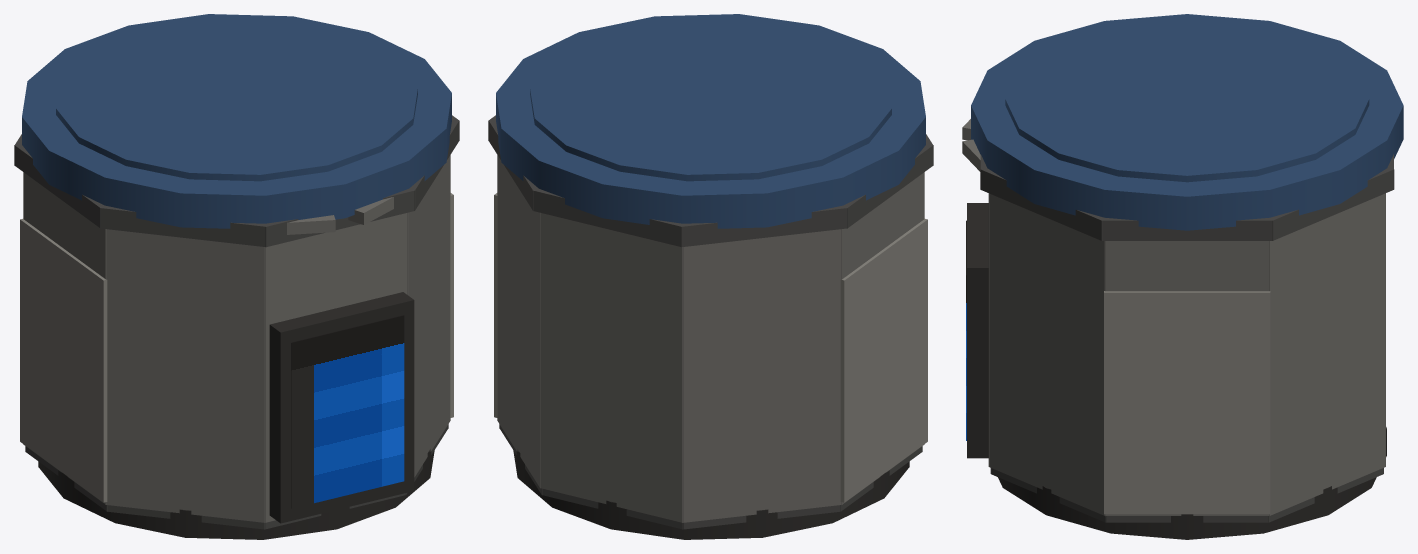
The model's file is CMU3DRMCBeakerHighCapacityMedicalSmallCloudLidStudy.glb.
3 renders of one model, left to right at view 1: azimuth 30°, elevation 25°; view 2: azimuth 150°, elevation 25°; view 3: azimuth 270°, elevation 25°, orthographic.
Visible parts, largest first — view 1: lid inset top, thin hollow vessel wall 06, removable solid closed lid, left raised protective rib, original blue capacity window, thin hollow vessel wall 07, front recessed blue gauge bezel, thin hollow vessel wall 08, closed vessel floor, thin hollow vessel wall 05, rolled open mouth 06, rolled open mouth 07 (+6 smaller); view 2: lid inset top, thin hollow vessel wall 04, thin hollow vessel wall 03, removable solid closed lid, left raised protective rib, thin hollow vessel wall 02, closed vessel floor, thin hollow vessel wall 05, rolled open mouth 04, rolled open mouth 03, rolled open mouth 05, lower metal collar 04 (+3 smaller); view 3: lid inset top, right raised protective rib, thin hollow vessel wall 08, thin hollow vessel wall 02, removable solid closed lid, thin hollow vessel wall 01, closed vessel floor, front recessed blue gauge bezel, rolled open mouth 01, rolled open mouth 02, rolled open mouth 08, lower metal collar 01 (+2 smaller).
Boxes of the visible parts, <box> form: lid inset top: <box>56,22,417,181</box>; thin hollow vessel wall 06: <box>105,229,265,522</box>; removable solid closed lid: <box>22,14,451,228</box>; left raised protective rib: <box>20,219,107,502</box>; original blue capacity window: <box>291,315,404,508</box>; thin hollow vessel wall 07: <box>264,213,408,522</box>; front recessed blue gauge bezel: <box>269,292,414,523</box>; thin hollow vessel wall 08: <box>407,155,450,477</box>; closed vessel floor: <box>38,449,434,539</box>; thin hollow vessel wall 05: <box>23,172,106,504</box>; rolled open mouth 06: <box>100,206,268,246</box>; rolled open mouth 07: <box>265,188,415,246</box>; lid inset top: <box>530,22,891,181</box>; thin hollow vessel wall 04: <box>682,229,842,522</box>; thin hollow vessel wall 03: <box>539,213,683,522</box>; removable solid closed lid: <box>496,14,925,228</box>; left raised protective rib: <box>840,219,927,502</box>; thin hollow vessel wall 02: <box>497,155,540,488</box>; closed vessel floor: <box>513,449,909,539</box>; thin hollow vessel wall 05: <box>841,172,924,504</box>; rolled open mouth 04: <box>679,204,847,246</box>; rolled open mouth 03: <box>532,189,685,246</box>; rolled open mouth 05: <box>843,143,933,228</box>; lower metal collar 04: <box>682,505,841,529</box>; lid inset top: <box>1005,22,1369,182</box>; right raised protective rib: <box>1104,291,1270,514</box>; thin hollow vessel wall 08: <box>988,193,1105,515</box>; thin hollow vessel wall 02: <box>1269,193,1385,515</box>; removable solid closed lid: <box>971,14,1403,230</box>; thin hollow vessel wall 01: <box>1104,241,1269,515</box>; closed vessel floor: <box>998,427,1386,539</box>; front recessed blue gauge bezel: <box>967,203,988,458</box>; rolled open mouth 01: <box>1101,217,1273,240</box>; rolled open mouth 02: <box>1267,167,1394,240</box>; rolled open mouth 08: <box>980,168,1106,240</box>; lower metal collar 01: <box>1105,516,1268,522</box>.
Bounding box in the file's own units: 0.52 × 0.473 × 0.5304.
6 materials, 1 textured.
